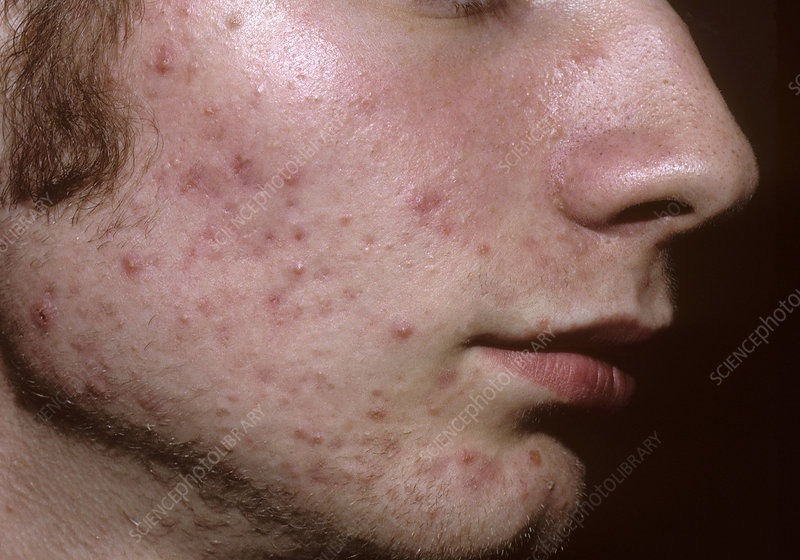Acne: (280, 247, 310, 283), (391, 316, 420, 350)
